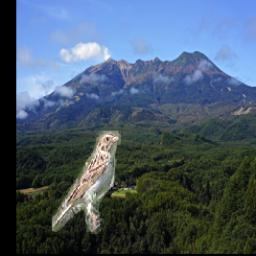Sparrow: (52, 132, 121, 235)
